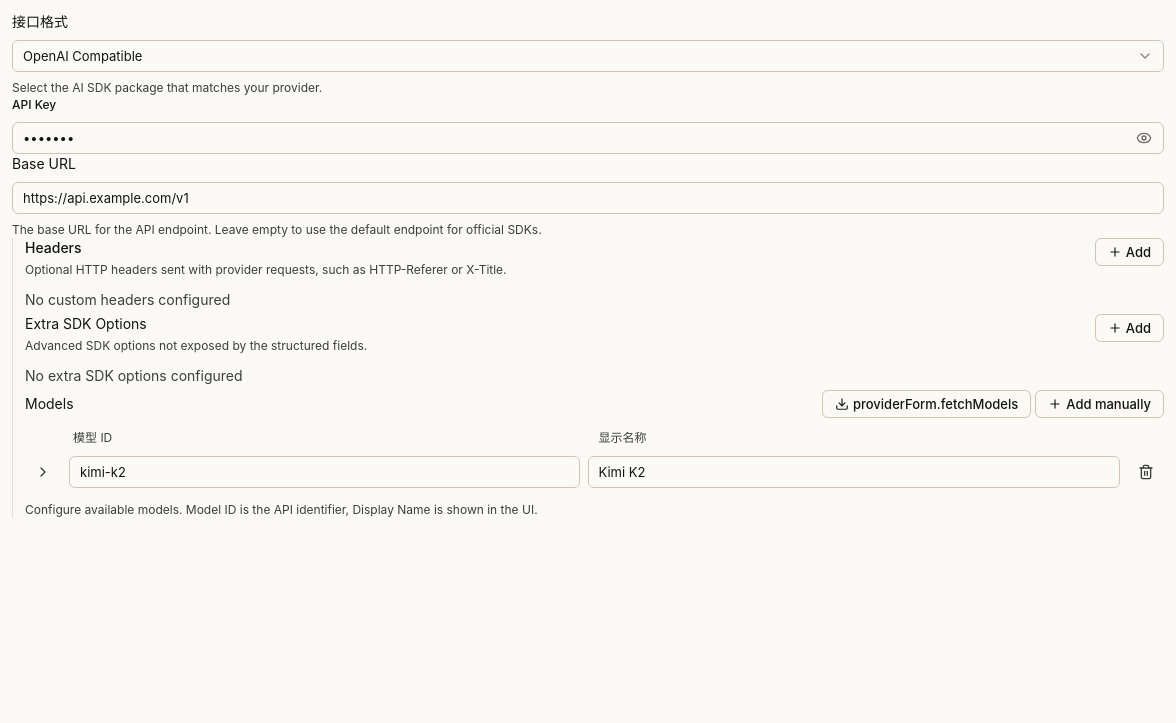
Scenario: OpenCodeFormFields › removes previous choices after an empty fetch without changing configured models
Click the button "providerForm.fetchModels" at (927, 404), box top-left (822, 390), bottom-right (1031, 418)
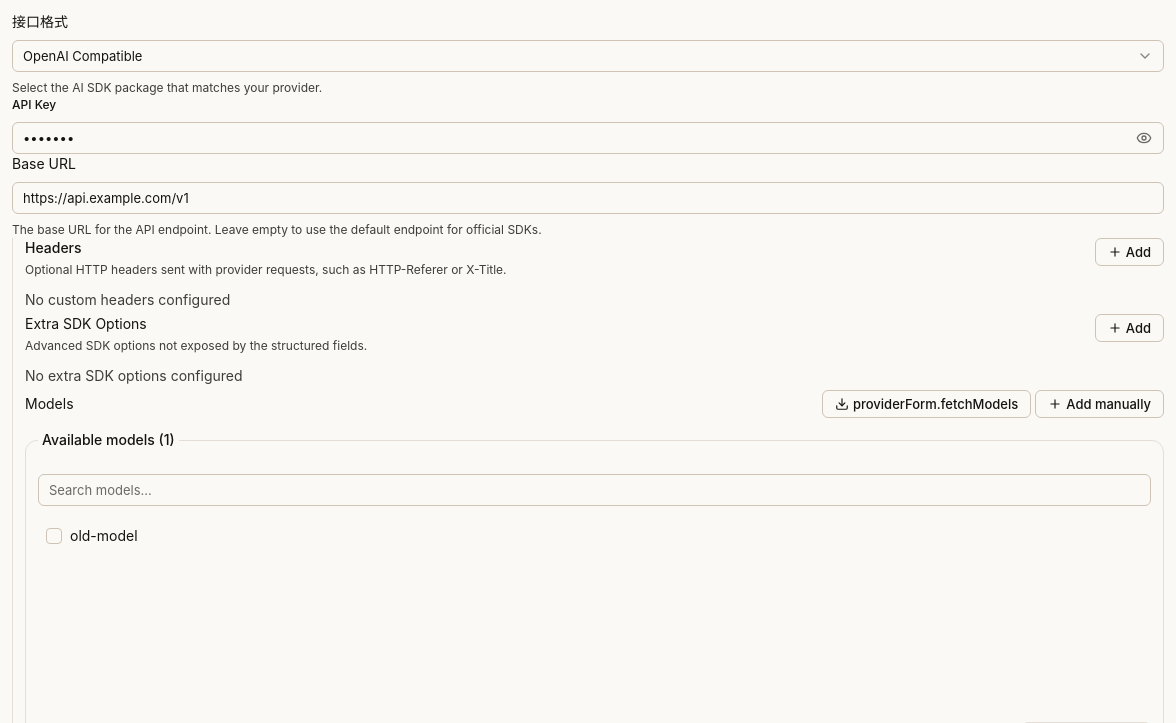
Click the checkbox labelled "old-model" at (54, 536), box top-left (46, 528), bottom-right (62, 544)
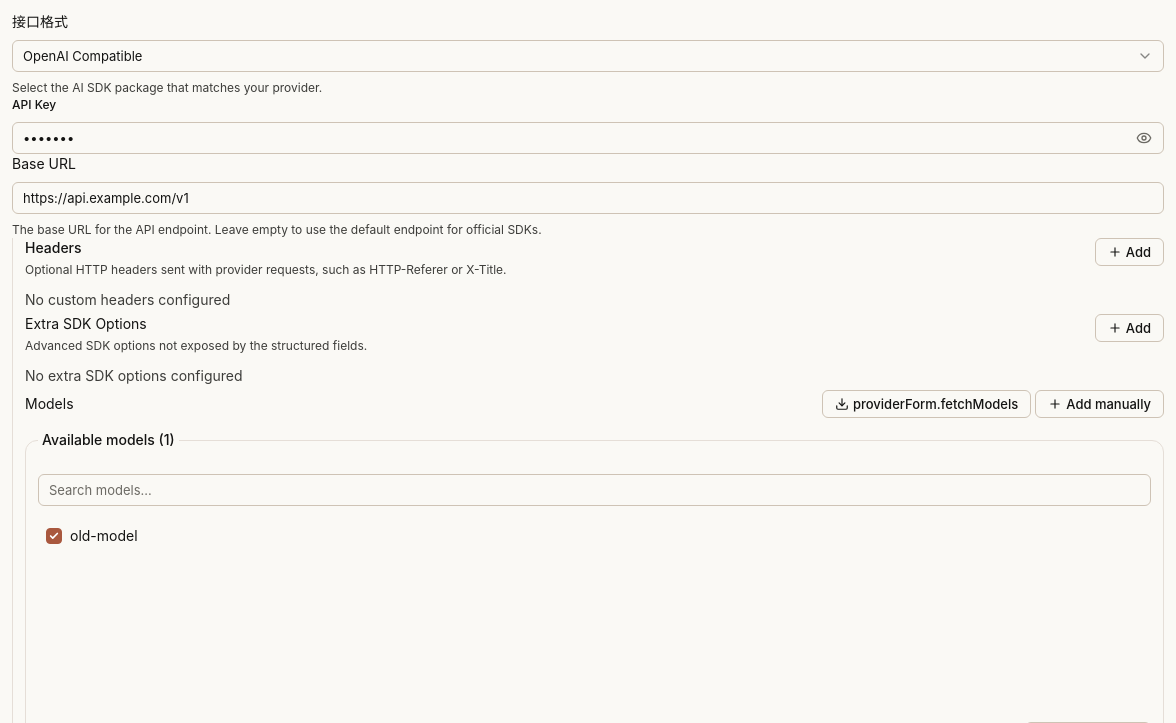
Click the button "providerForm.fetchModels" at (927, 404), box top-left (822, 390), bottom-right (1031, 418)
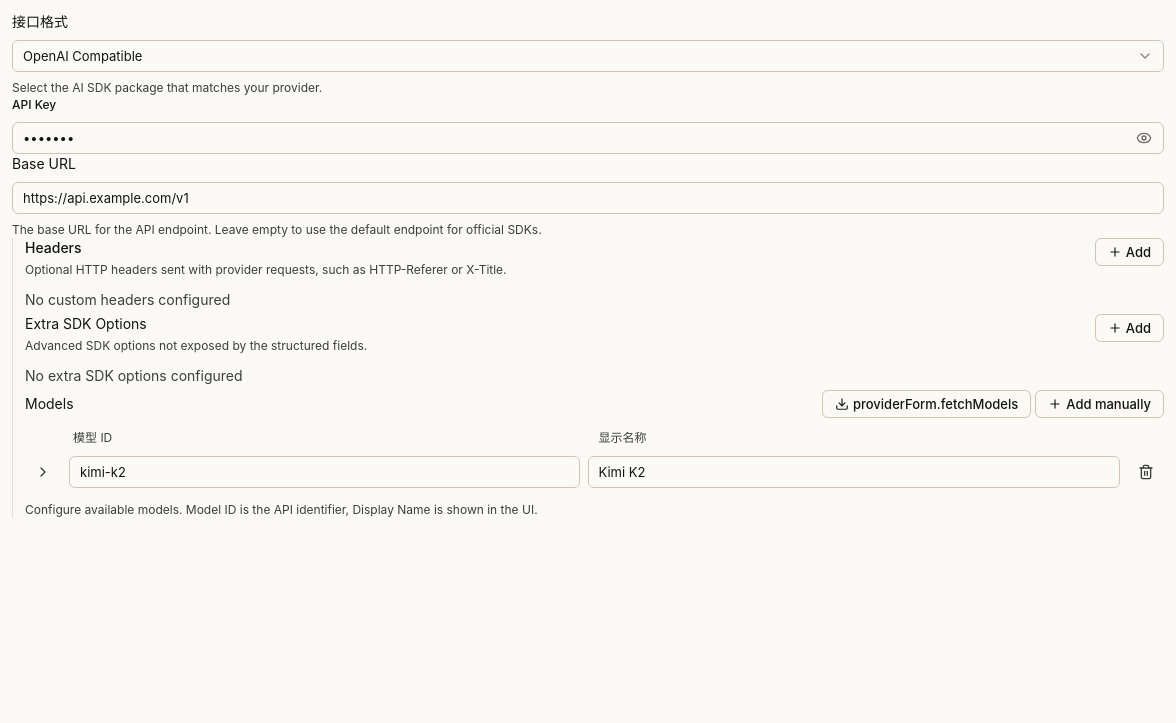
Check: the 2nd field showing "Kimi K2" is shown, box top-left (588, 456), bottom-right (1120, 488)
Check: the text "old-model" is gone
